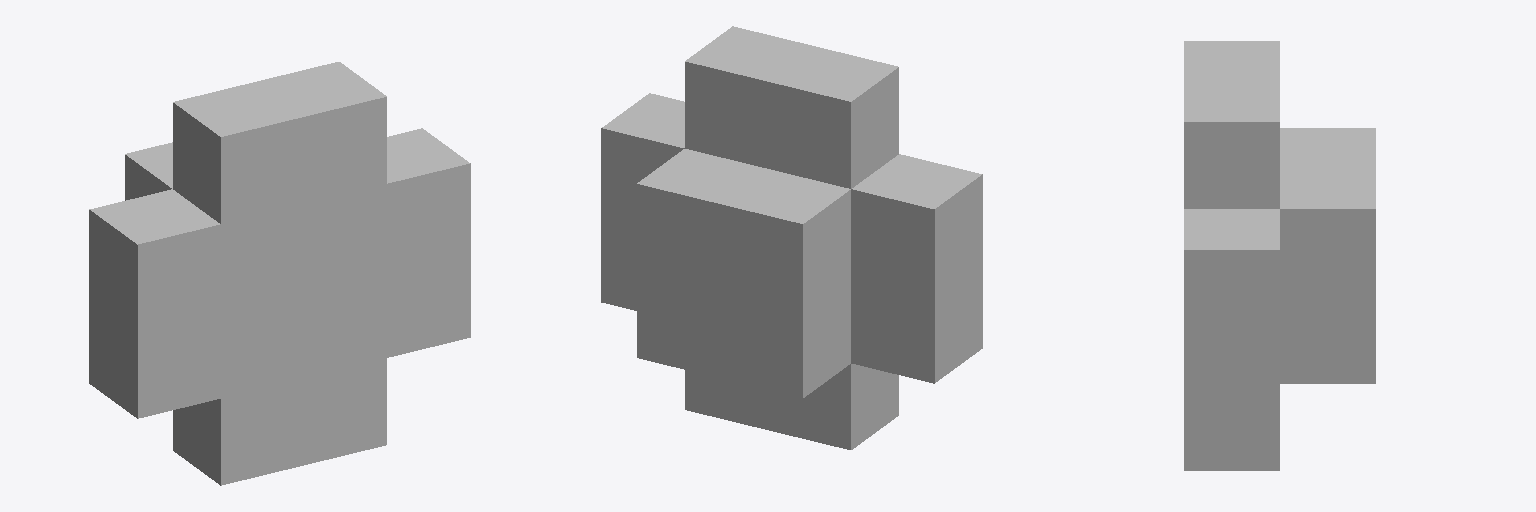
Rendered from buttonPurple.obj.
3 views of the same model, side by side, from view 1: azimuth 30°, elevation 25°; view 2: azimuth 150°, elevation 25°; view 3: azimuth 270°, elevation 25° (orthographic).
Visible parts, largest first — view 1: object 1; view 2: object 1; view 3: object 1.
Part boxes in pixels (x1,y1,x2,y2): object 1: (89,62,470,485); object 1: (601,26,982,449); object 1: (1184,41,1375,470).
Size of the model in its own units: 0.4 by 0.4 by 0.2.